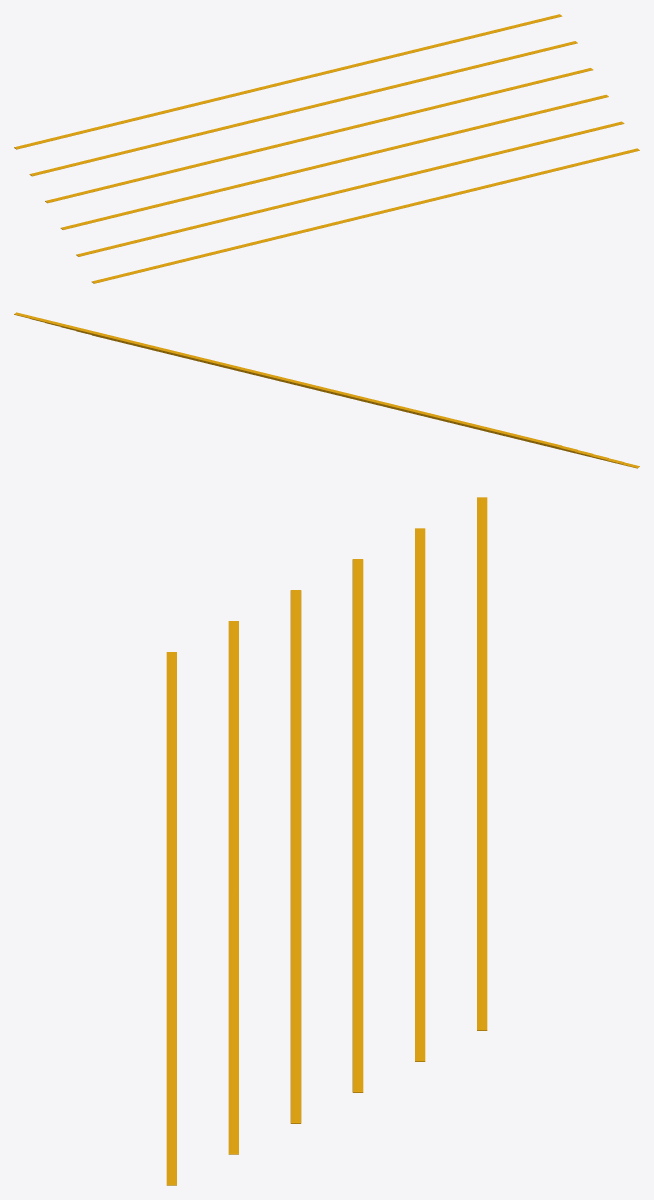
Rendered from gteki_ik_stair_n6_r180_t327_w6658_nosing.glb.
The picture shows the model from 3 angles, top to bottom: view 1: azimuth 30°, elevation 25°; view 2: azimuth 150°, elevation 25°; view 3: azimuth 270°, elevation 25°; orthographic projection. The views are drawn at different scales.
Visible parts, largest first — view 1: VIS_nosings; view 2: VIS_nosings; view 3: VIS_nosings.
Boxes of the visible parts, <box> form: VIS_nosings: <box>14,14,639,283</box>; VIS_nosings: <box>14,312,639,468</box>; VIS_nosings: <box>166,497,487,1185</box>.
Size of the model in its own units: 6.64 by 0.906 by 1.69.
